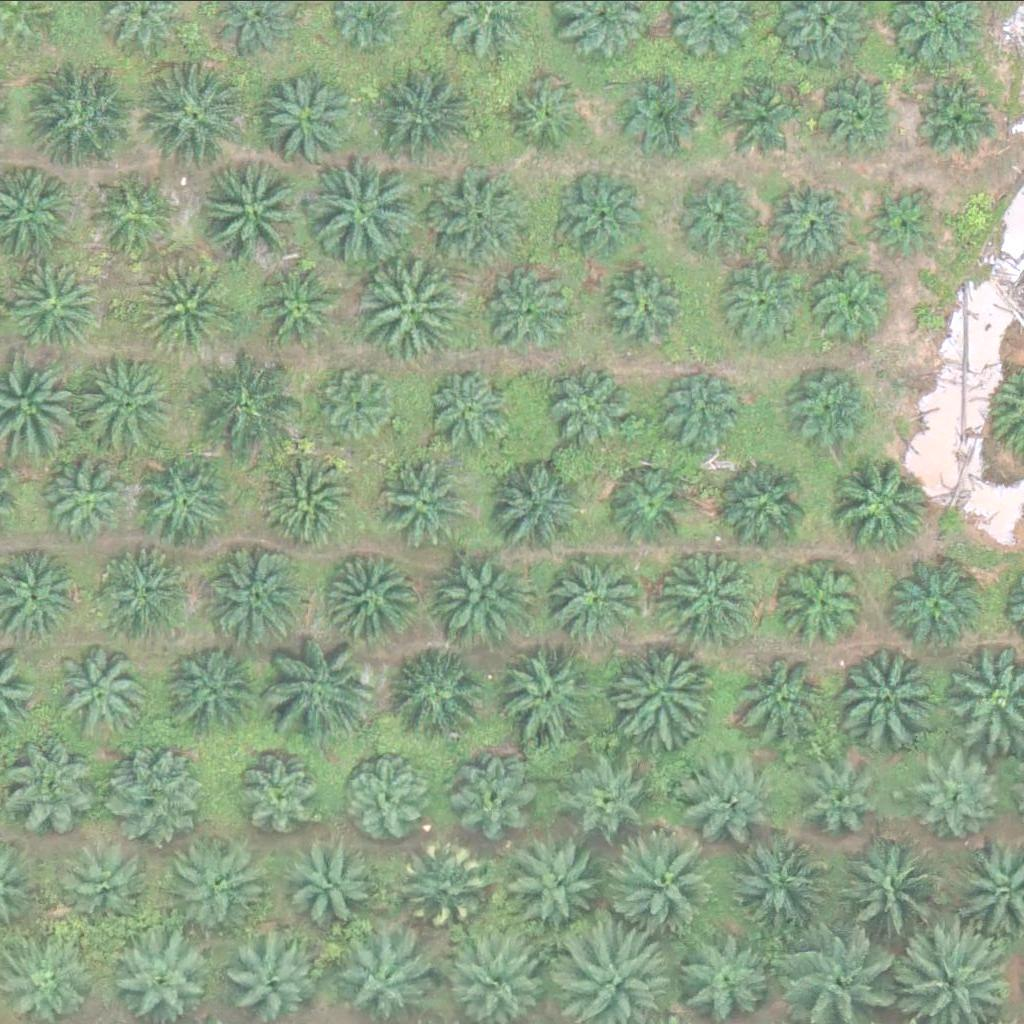Kelapa_Sawit: (841, 835, 955, 948), (375, 63, 488, 176), (312, 154, 425, 267), (268, 628, 381, 741), (184, 343, 297, 456), (828, 637, 942, 749), (197, 149, 311, 261), (356, 255, 469, 367), (610, 823, 723, 935), (73, 345, 186, 457), (26, 63, 139, 175), (140, 62, 253, 174), (262, 67, 363, 167), (429, 170, 530, 270), (258, 453, 359, 553), (487, 451, 588, 551), (719, 455, 820, 555), (835, 454, 936, 554), (663, 545, 764, 645), (391, 641, 492, 741), (503, 645, 604, 745), (619, 645, 720, 745), (508, 830, 609, 930), (167, 835, 268, 935), (104, 737, 205, 837), (54, 641, 155, 741), (163, 637, 264, 737), (206, 543, 307, 643), (138, 448, 239, 548), (137, 258, 238, 358), (325, 546, 425, 646), (430, 545, 530, 645), (891, 552, 991, 652), (735, 643, 835, 743), (679, 742, 779, 842), (735, 835, 835, 935), (93, 536, 193, 636), (315, 357, 403, 445), (422, 368, 510, 456), (550, 364, 638, 452), (652, 371, 740, 459), (600, 269, 688, 357), (555, 171, 643, 259), (918, 72, 1006, 160), (501, 70, 589, 158), (383, 455, 471, 543), (785, 555, 873, 643), (7, 259, 95, 347), (258, 263, 346, 351), (82, 165, 170, 253), (787, 365, 875, 452), (804, 255, 892, 342), (719, 259, 807, 346), (483, 268, 571, 355), (680, 174, 768, 261), (764, 173, 852, 260), (808, 75, 896, 162), (711, 67, 799, 154), (614, 75, 702, 162), (605, 460, 693, 547), (549, 551, 637, 638), (243, 748, 331, 835), (352, 751, 440, 838), (451, 748, 539, 835), (568, 751, 656, 838), (812, 751, 900, 838), (917, 746, 1005, 833), (404, 841, 492, 928), (289, 842, 377, 929), (65, 843, 153, 930), (40, 454, 128, 541), (861, 184, 937, 259)
